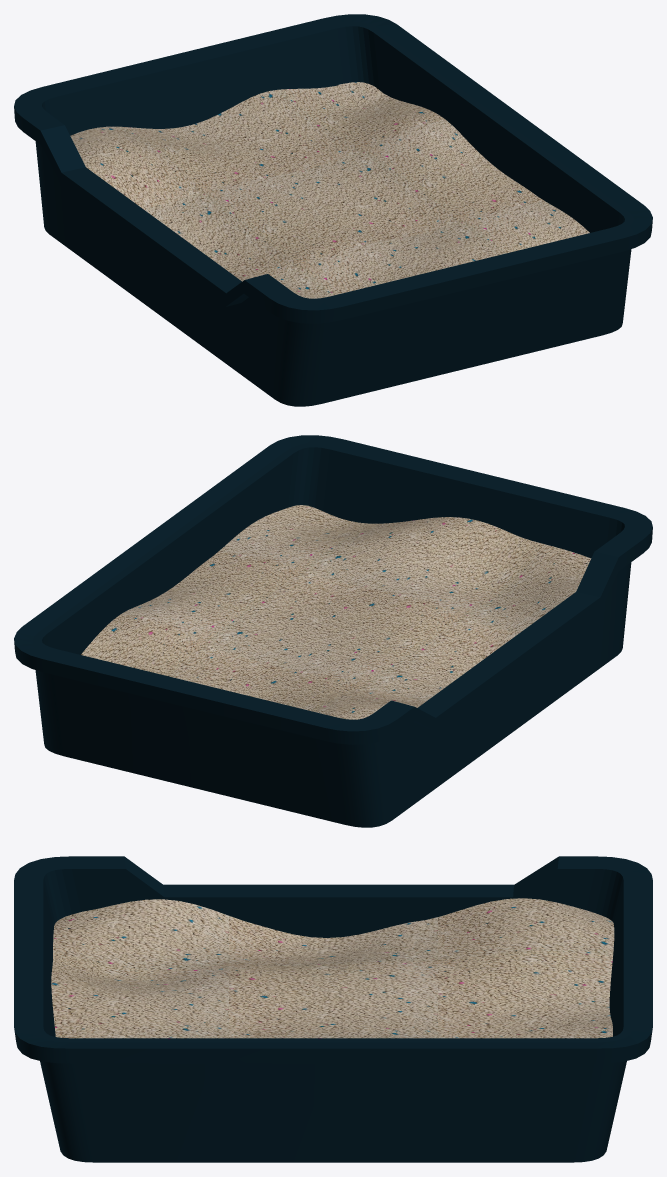
Rendered from sand.fbx.
The picture shows the model from 3 angles, top to bottom: view 1: azimuth 30°, elevation 25°; view 2: azimuth 150°, elevation 25°; view 3: azimuth 270°, elevation 25°; orthographic projection. The views are drawn at different scales.
Parts seen in each view (by area): view 1: Box001; view 2: Box001; view 3: Box001.
Boxes of the visible parts, left/top/right/bottom form: Box001: left=14, top=14, right=652, bottom=406; Box001: left=14, top=435, right=652, bottom=827; Box001: left=14, top=856, right=652, bottom=1162.
Size of the model in its own units: 23.45 by 6.88 by 32.59.
